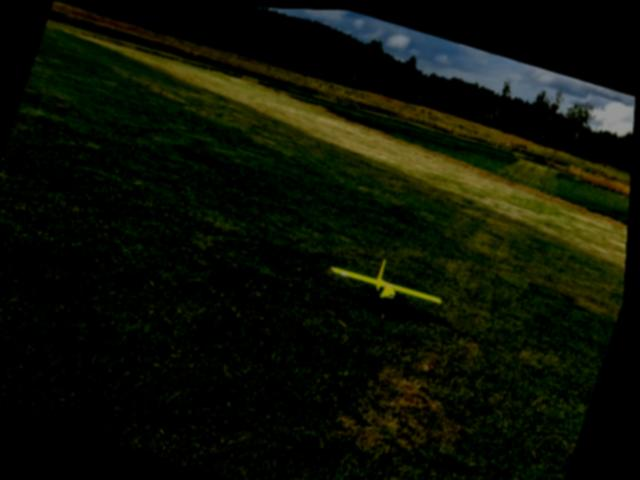plane: (321, 242, 454, 327)
